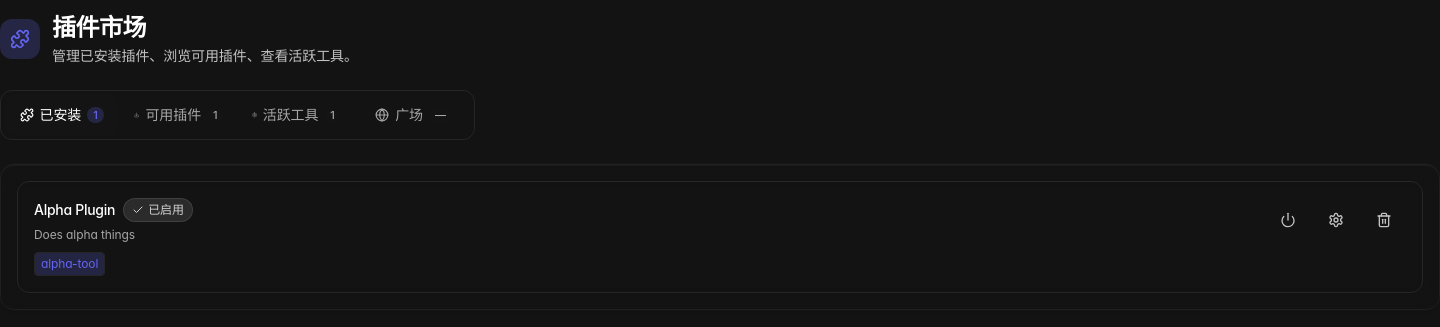
Test: Plugins page integration › shows the error only on the marketplace tab when only marketplace fails
This screenshot has width=1440, height=327.
Expected: the heading "Alpha Plugin" is shown, [34,200,115,220]
Click the tab "广场 —" at (413, 115), box [357,95,470,135]
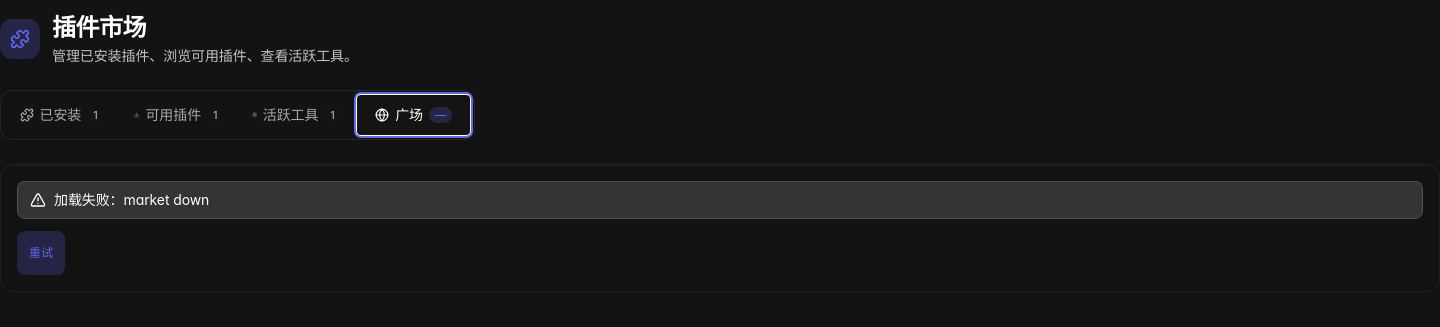
Expected: the message shows "加载失败", [54,191,124,208]
Expected: the button "重试" is shown, [17,231,65,275]
